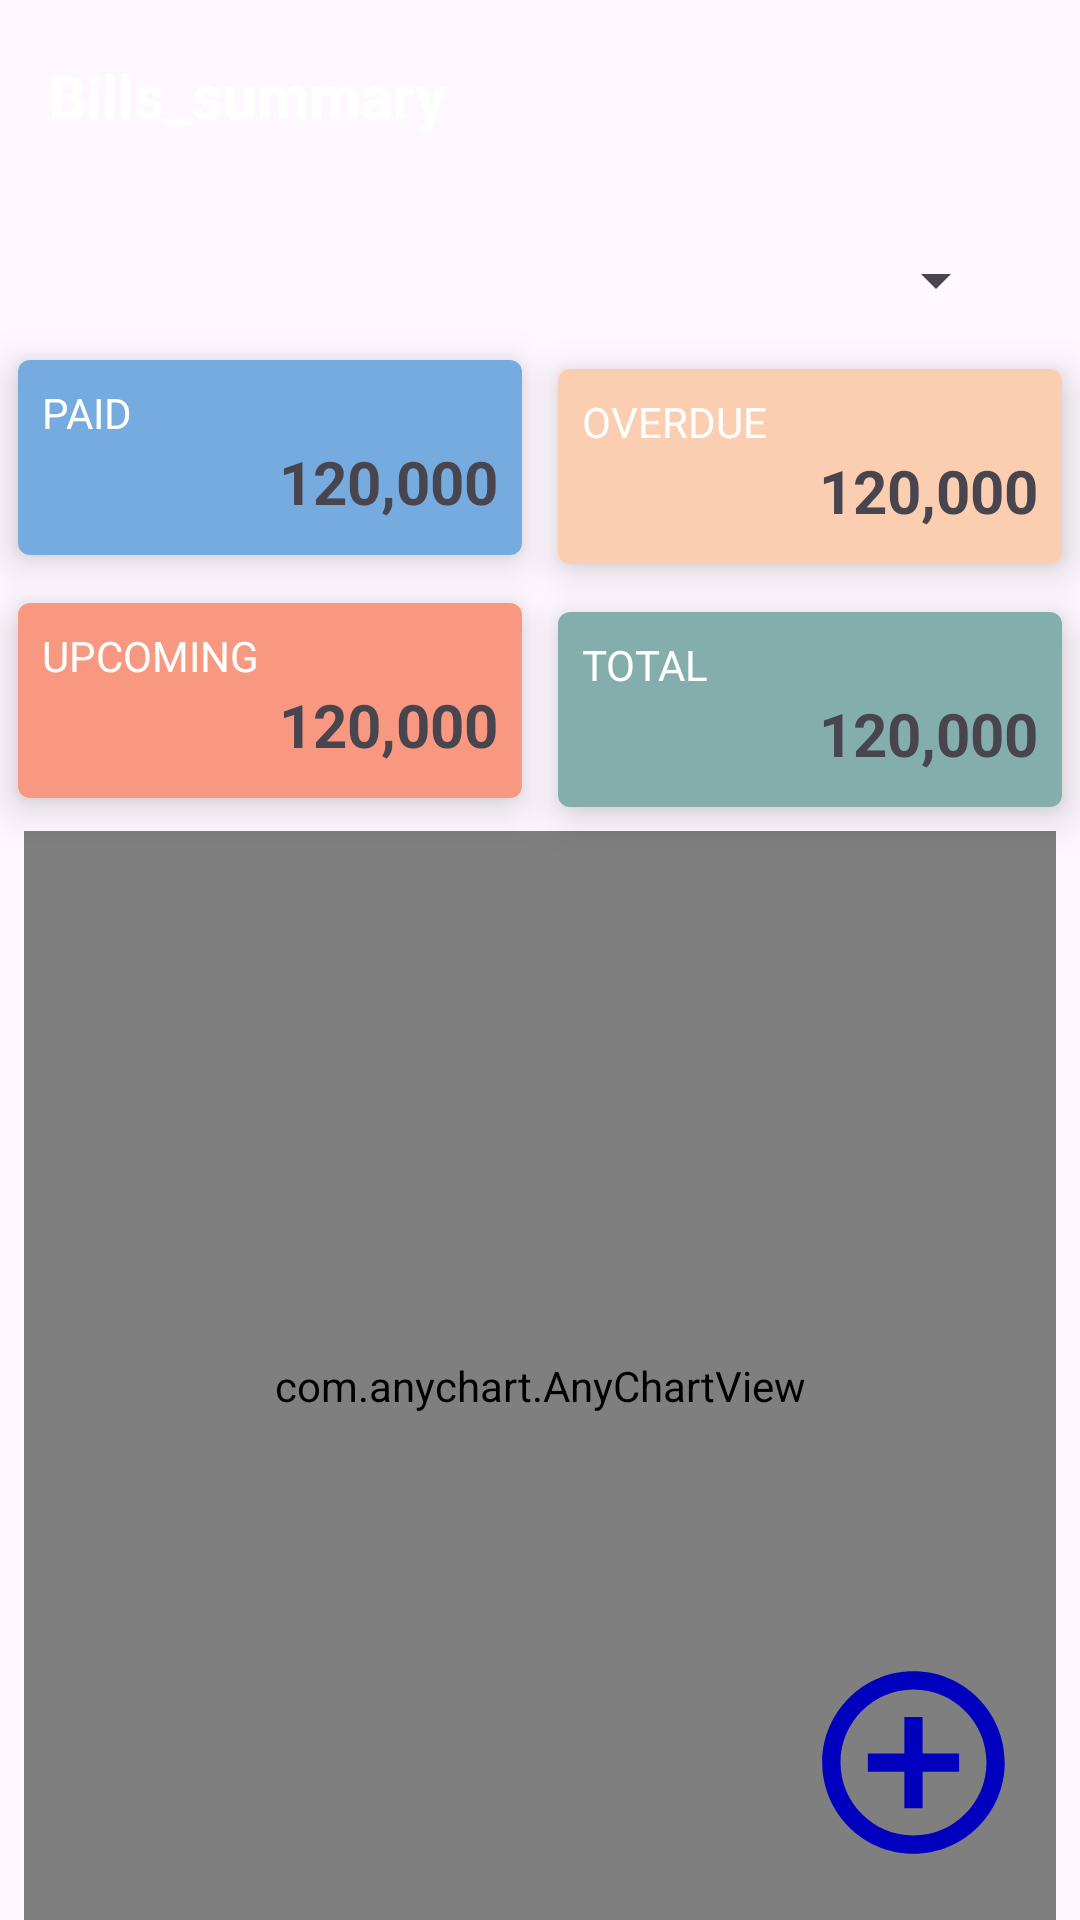

Point at icon controls on the screen. Image size 1080 x 1920, points as [x,y].
add circle: [913,1762]
